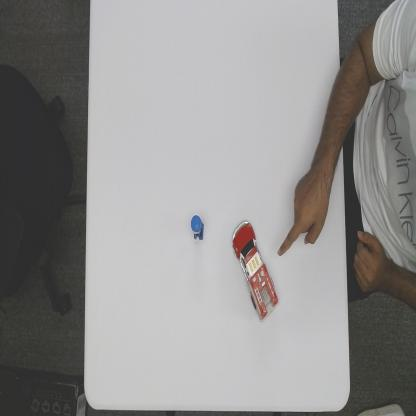Arm: (316, 78, 342, 184)
Firetruck: (230, 217, 278, 323)
Hand: (277, 173, 330, 257)
